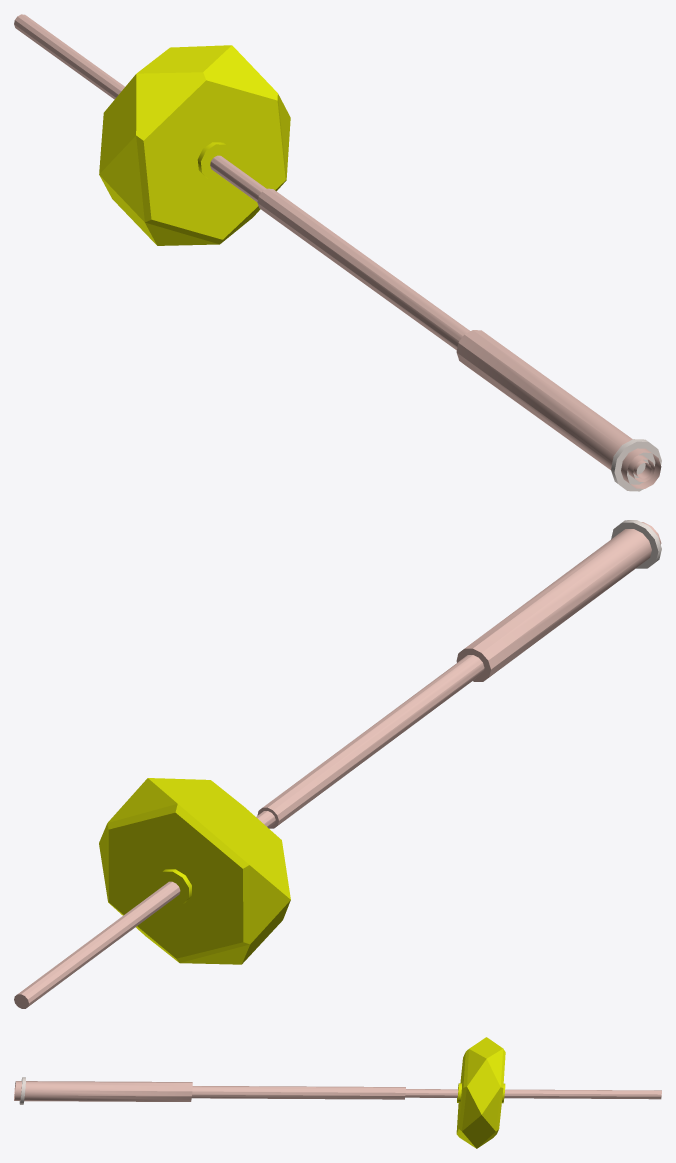
File: branch.03.glb
The picture shows the model from 3 angles, top to bottom: view 1: azimuth 30°, elevation 25°; view 2: azimuth 150°, elevation 25°; view 3: azimuth 270°, elevation 25°; orthographic projection. The views are drawn at different scales.
Visible parts, largest first — view 1: MET-59_3D-Model.17356, MET-59_3D-Model.17357, MET-59_3D-Model.17358; view 2: MET-59_3D-Model.17356, MET-59_3D-Model.17357, MET-59_3D-Model.17358; view 3: MET-59_3D-Model.17357, MET-59_3D-Model.17356.
Part boxes in pixels (box(x1,y1,x2,y2)): MET-59_3D-Model.17356: box(99, 45, 290, 245); MET-59_3D-Model.17357: box(14, 14, 661, 488); MET-59_3D-Model.17358: box(611, 439, 661, 491); MET-59_3D-Model.17356: box(99, 778, 290, 964); MET-59_3D-Model.17357: box(14, 522, 661, 1008); MET-59_3D-Model.17358: box(611, 520, 661, 568); MET-59_3D-Model.17357: box(14, 1081, 661, 1101); MET-59_3D-Model.17356: box(456, 1037, 505, 1148).
Bounding box in the file's own units: 0.0987 × 0.0852 × 0.5561.
